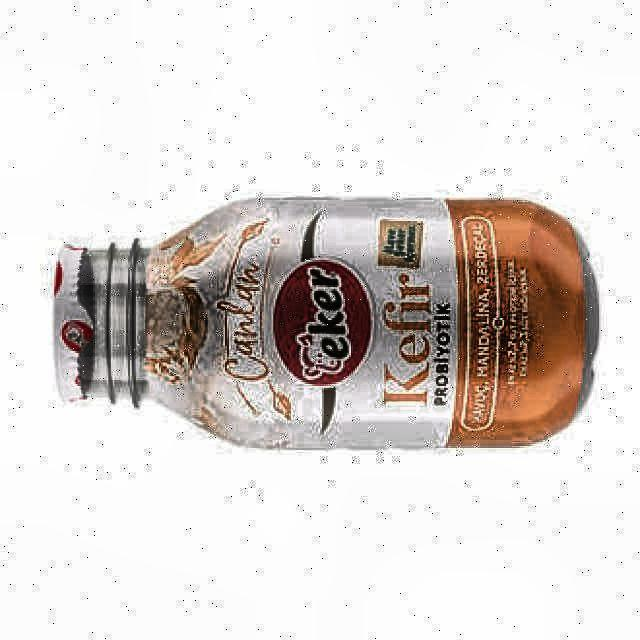plastic: (54, 199, 596, 447)
